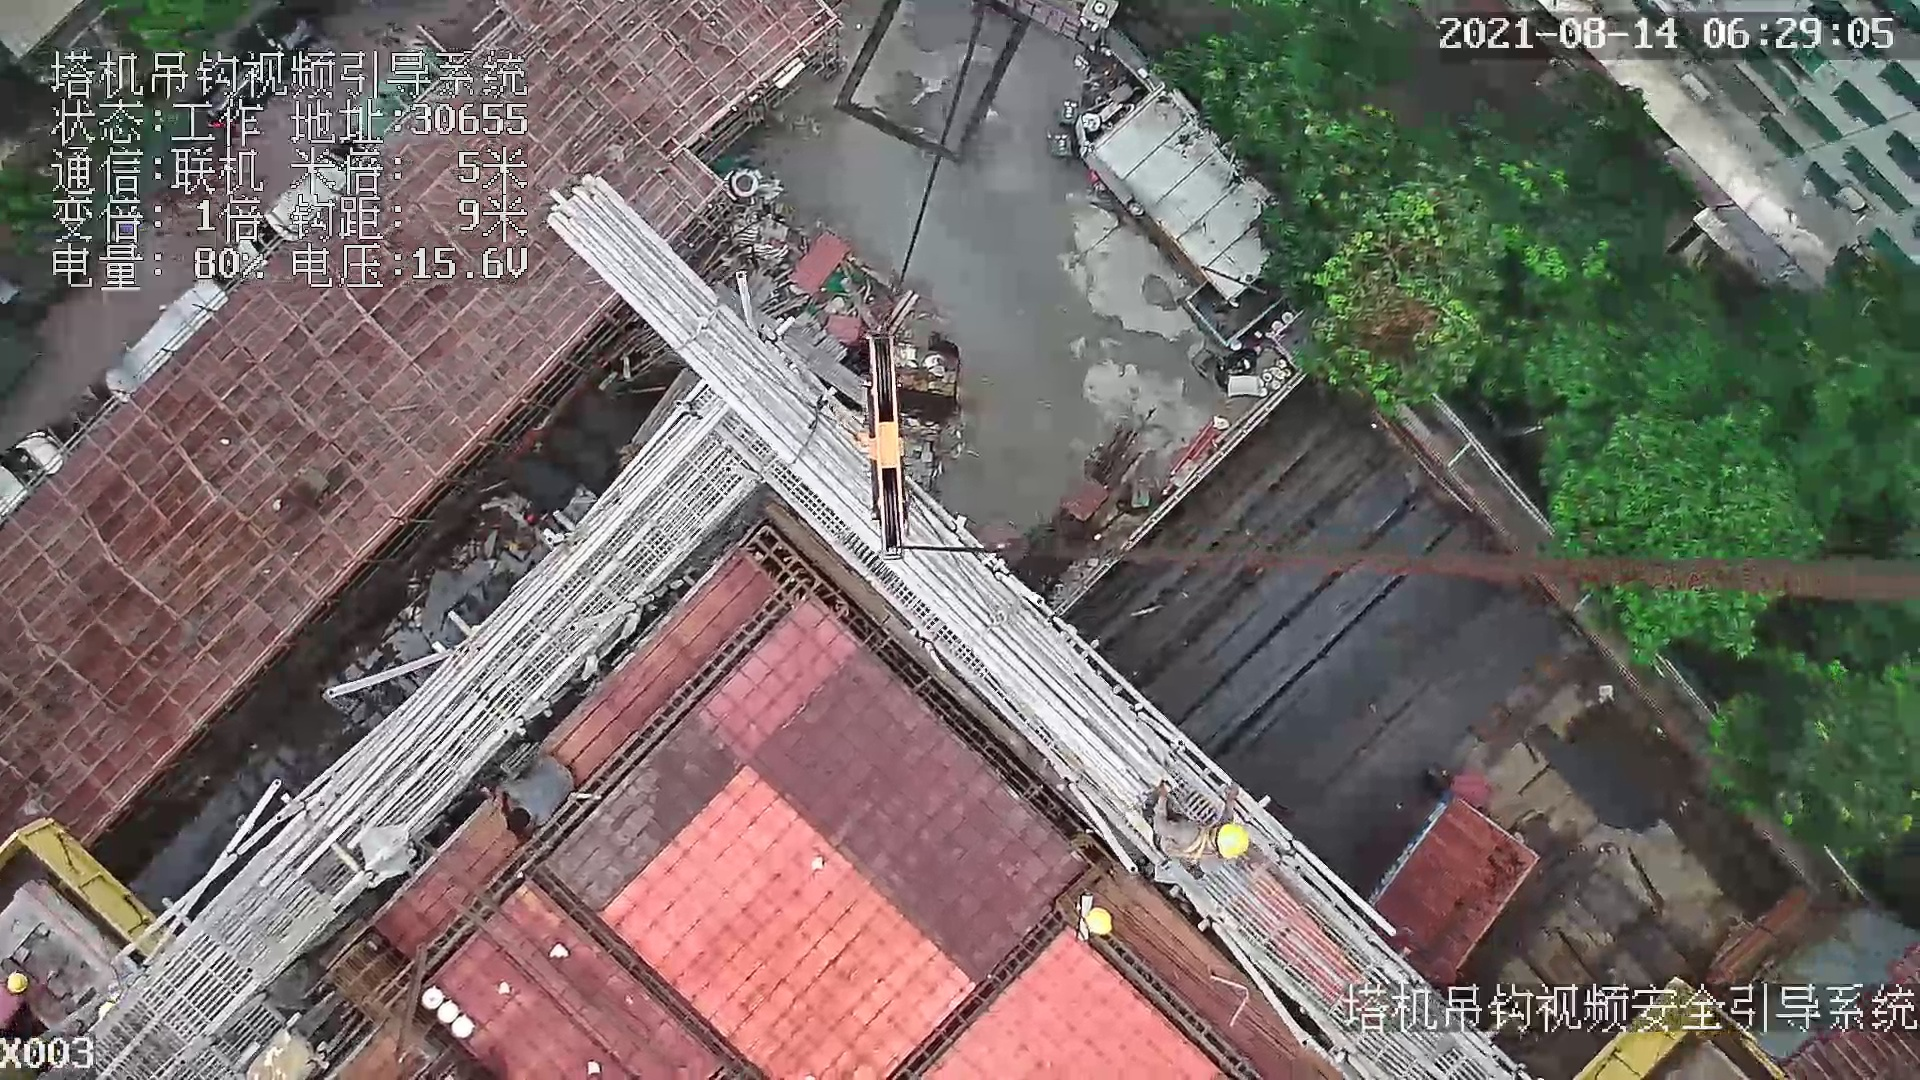helmet: (1215, 827, 1251, 862), (1085, 909, 1117, 944)
hook: (859, 328, 909, 556)
person: (1138, 780, 1264, 881)
rebar: (1163, 430, 1509, 765)
